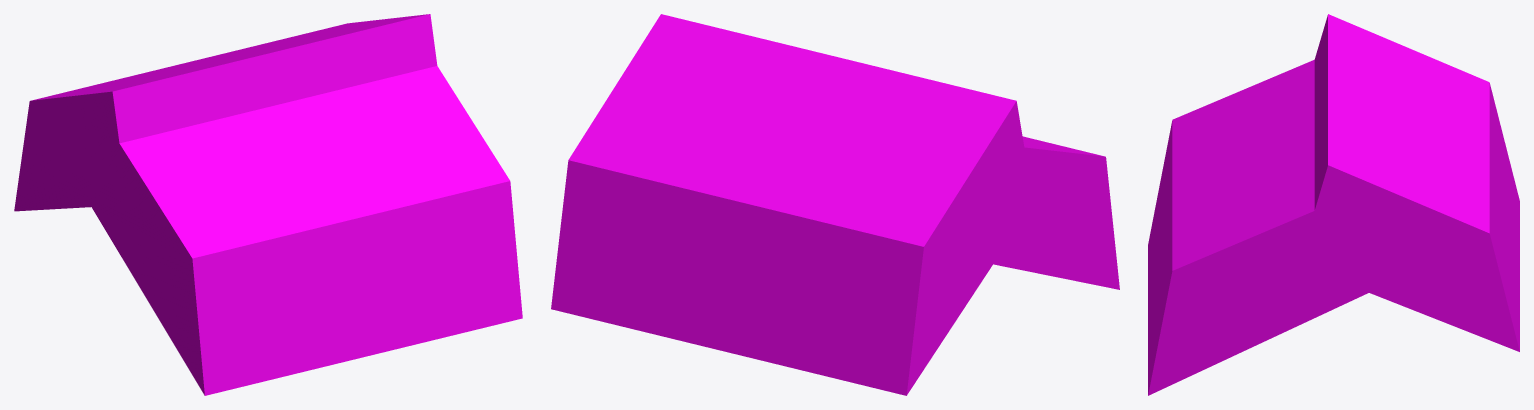
File: mijong.glb
3 renders of one model, left to right at view 1: azimuth 30°, elevation 25°; view 2: azimuth 150°, elevation 25°; view 3: azimuth 270°, elevation 25°, orthographic. The views are drawn at different scales.
Visible parts, largest first — view 1: Geometry244; view 2: Geometry244; view 3: Geometry244.
Part boxes in pixels (<box>): Geometry244: <box>14,14,522,395</box>; Geometry244: <box>551,14,1119,395</box>; Geometry244: <box>1148,14,1519,395</box>.
Bounding box in the file's own units: 10.2 × 7.26 × 10.6.
